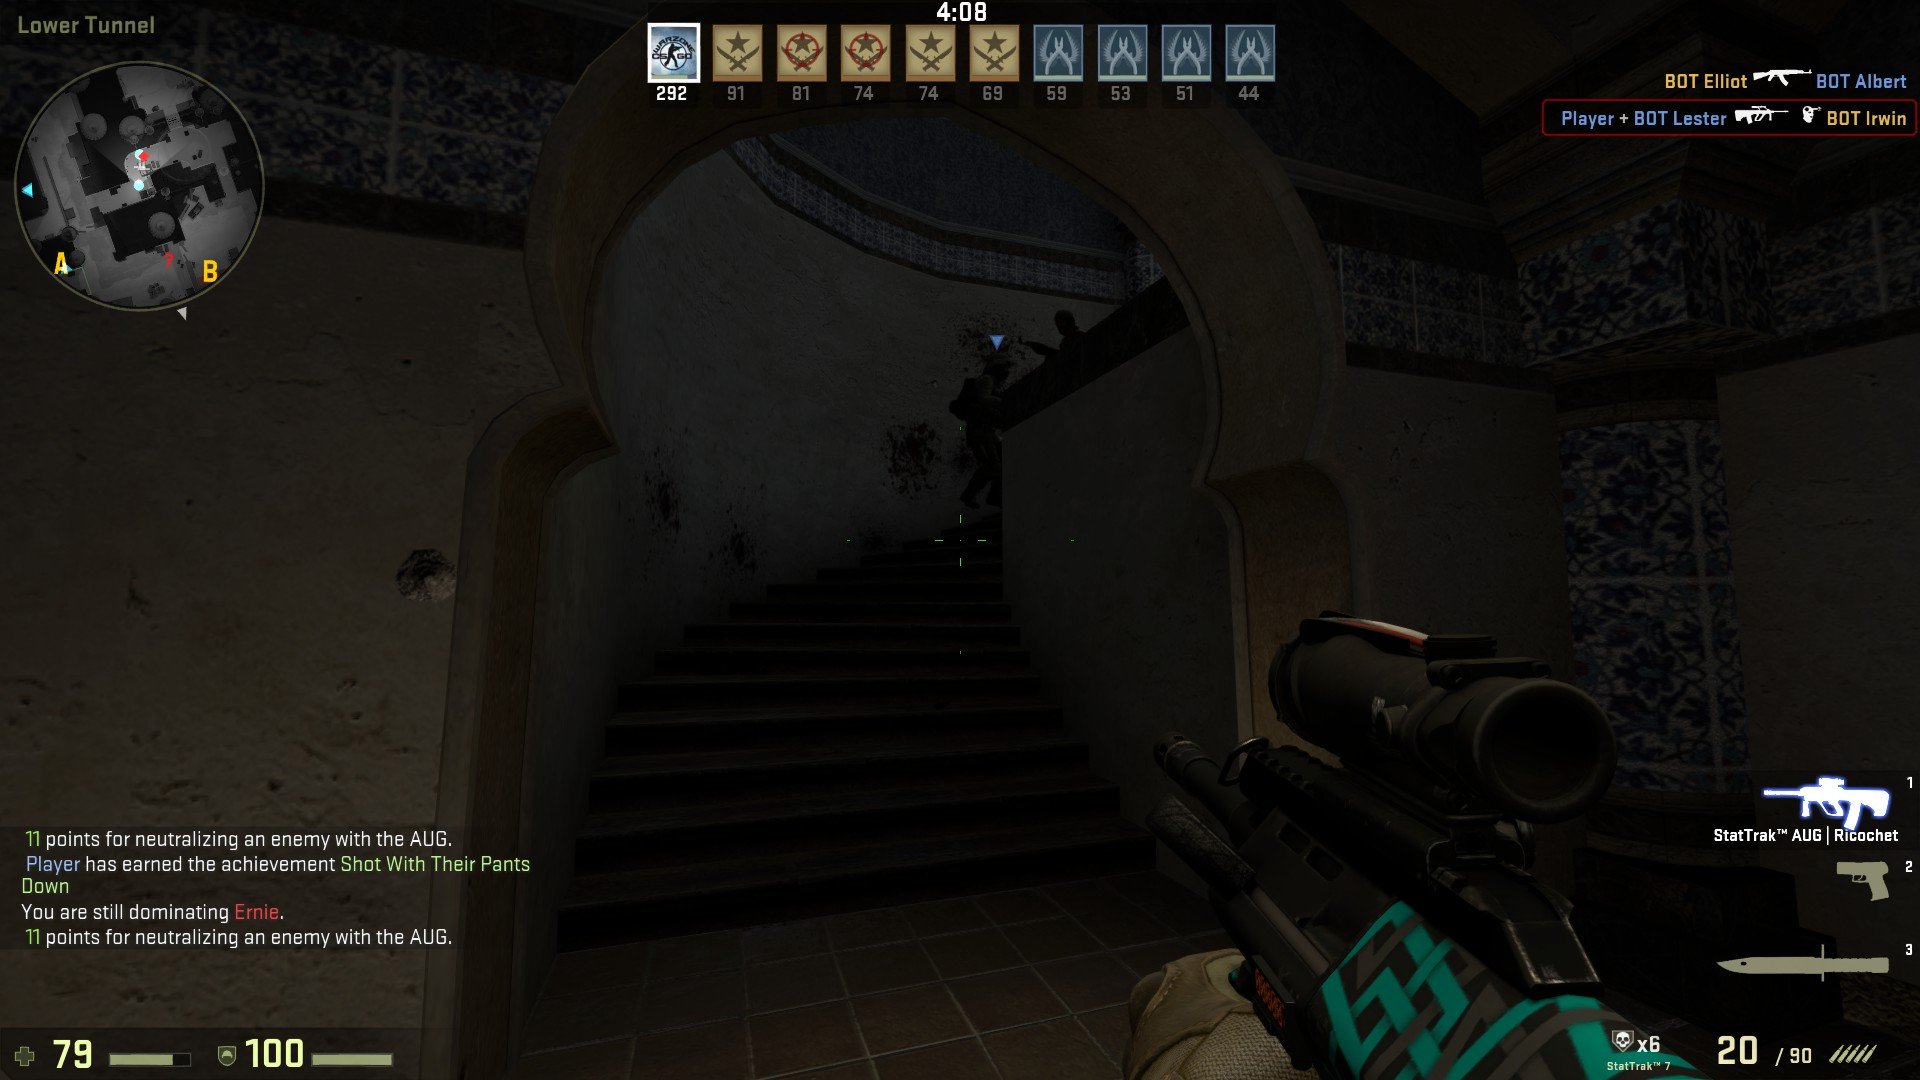c: (953, 351, 1021, 510)
ch: (981, 349, 1019, 382)
th: (1047, 309, 1084, 345)
